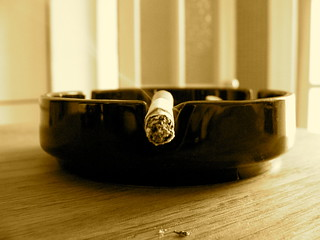cigarette: (143, 87, 178, 147)
